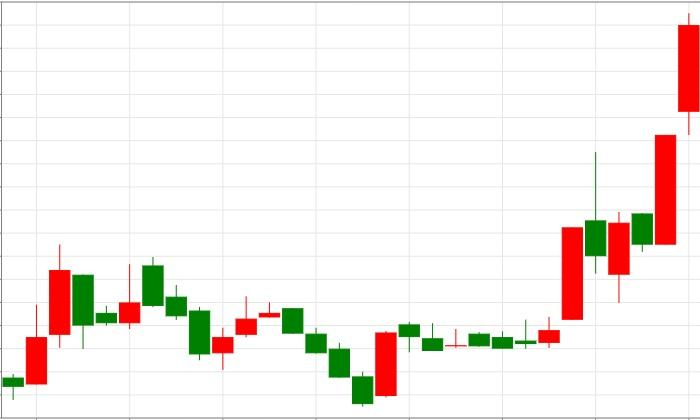shooting_star_fall: (492, 152, 606, 349)
